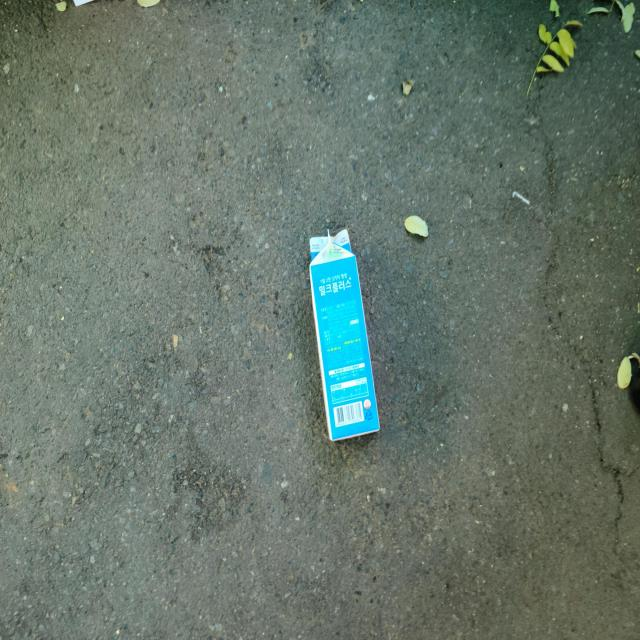paperpack: (310, 228, 380, 441)
